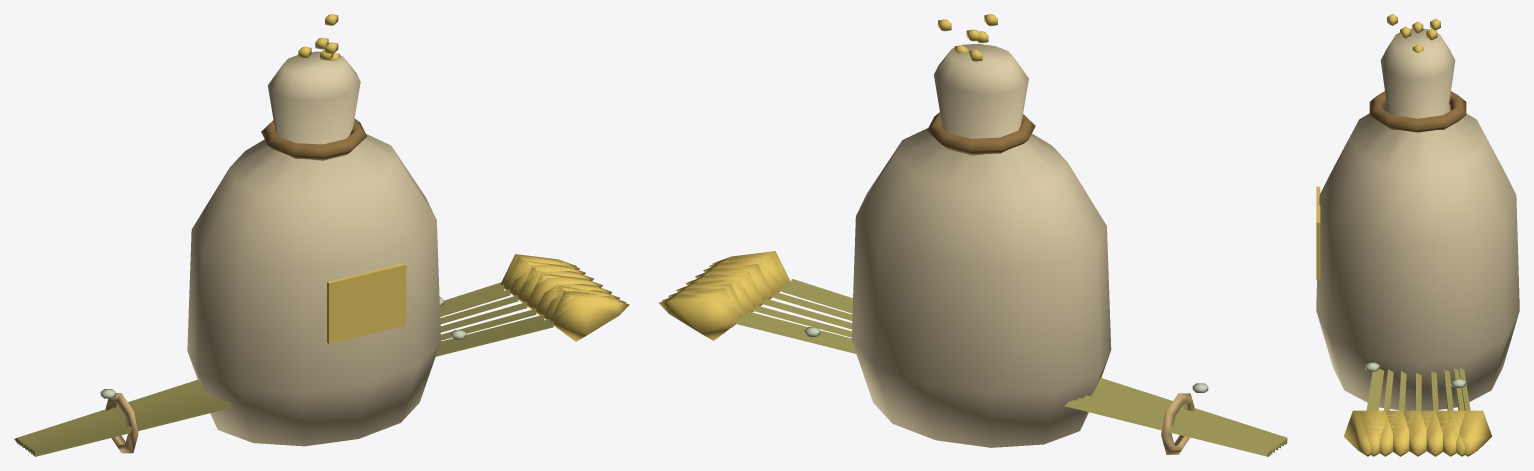
File: Grain_Millet.fbx
3 views of the same model, side by side, from view 1: azimuth 30°, elevation 25°; view 2: azimuth 150°, elevation 25°; view 3: azimuth 270°, elevation 25° (orthographic). The views are drawn at different scales.
Visible parts, largest first — view 1: Grain_Millet__Stack, Grain_Millet; view 2: Grain_Millet__Stack, Grain_Millet; view 3: Grain_Millet__Stack, Grain_Millet, Grain_Millet__Rotten.
Part boxes in pixels (x1=…): Grain_Millet__Stack: x1=187, y1=14, x2=440, y2=446; Grain_Millet: x1=14, y1=254, x2=629, y2=456; Grain_Millet__Stack: x1=851, y1=14, x2=1111, y2=447; Grain_Millet: x1=659, y1=251, x2=1287, y2=456; Grain_Millet__Stack: x1=1316, y1=14, x2=1519, y2=410; Grain_Millet: x1=1343, y1=367, x2=1492, y2=456; Grain_Millet__Rotten: x1=1365, y1=362, x2=1465, y2=387.
Size of the model in its own units: 0.3001 by 0.188 by 0.096.
